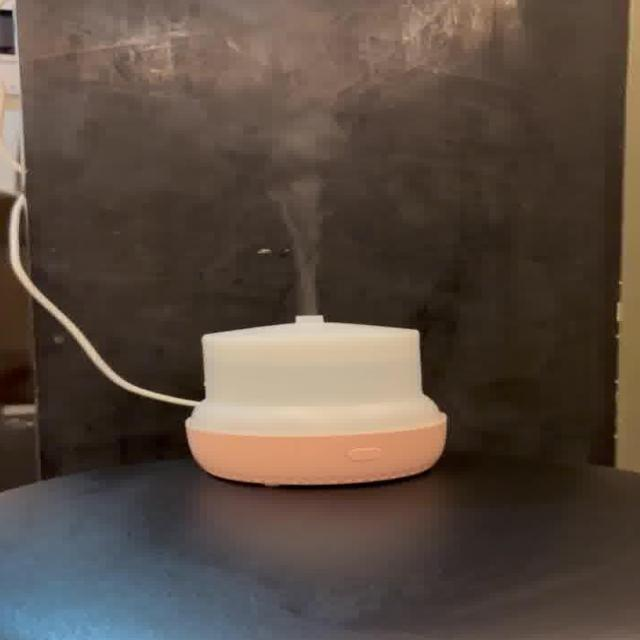fire: (278, 176, 332, 313)
